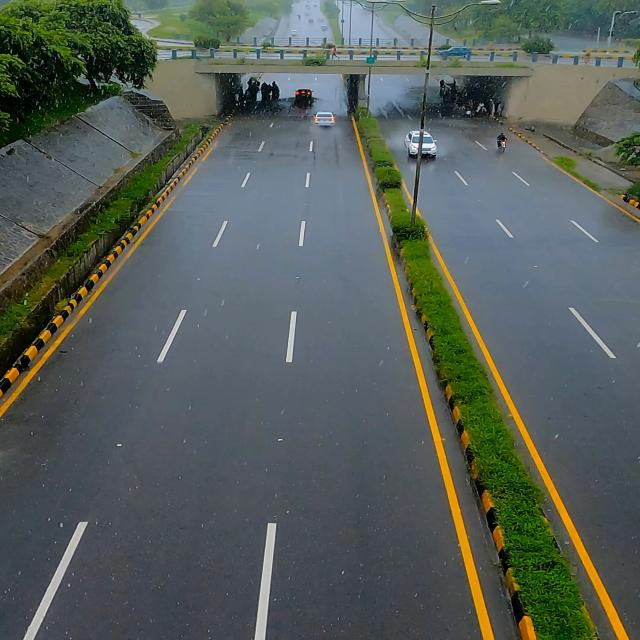Car: (404, 127, 444, 161), (311, 107, 342, 131)
